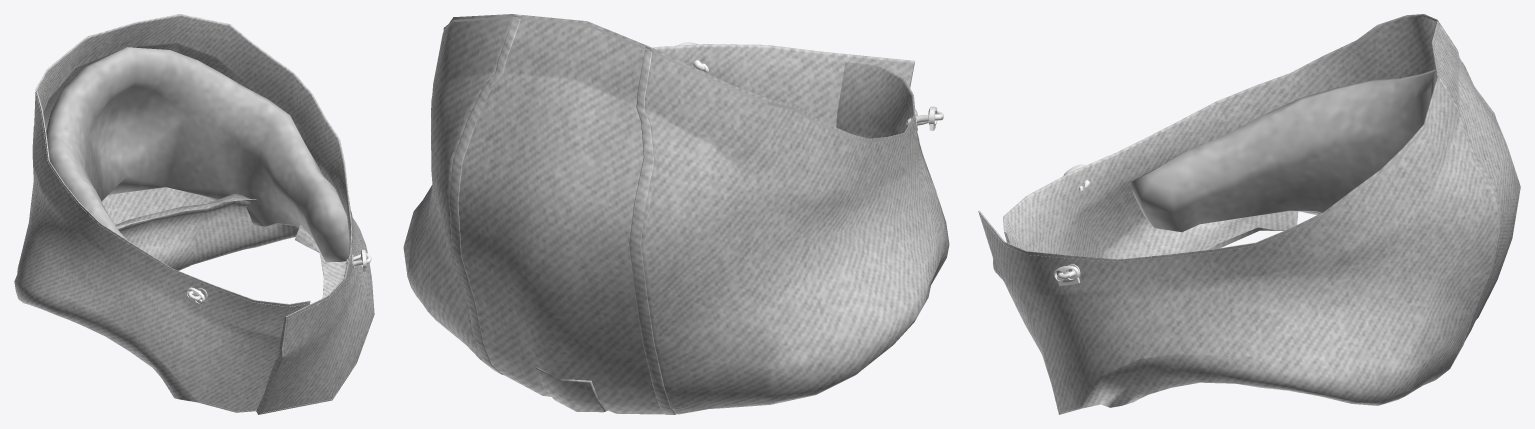
File: Hood1.glb
3 views of the same model, side by side, from view 1: azimuth 30°, elevation 25°; view 2: azimuth 150°, elevation 25°; view 3: azimuth 270°, elevation 25° (orthographic). The views are drawn at different scales.
Parts seen in each view (by area): view 1: Hood1, Decor_Hood1, Rope1, Band1; view 2: Hood1, Rope1, Band1; view 3: Hood1, Decor_Hood1, Rope1, Band1.
Boxes of the visible parts, bbox=[...] form: Hood1: bbox=[14, 14, 374, 414]; Decor_Hood1: bbox=[46, 47, 349, 262]; Rope1: bbox=[37, 96, 356, 413]; Band1: bbox=[186, 249, 371, 307]; Hood1: bbox=[403, 14, 949, 414]; Rope1: bbox=[443, 16, 914, 142]; Band1: bbox=[678, 42, 943, 130]; Hood1: bbox=[978, 14, 1520, 414]; Decor_Hood1: bbox=[1131, 69, 1436, 232]; Rope1: bbox=[980, 22, 1439, 412]; Band1: bbox=[1053, 164, 1089, 285].
Size of the model in its own units: 0.4147 by 0.3447 by 0.4911.
Materials: 5 (5 with a texture image).
